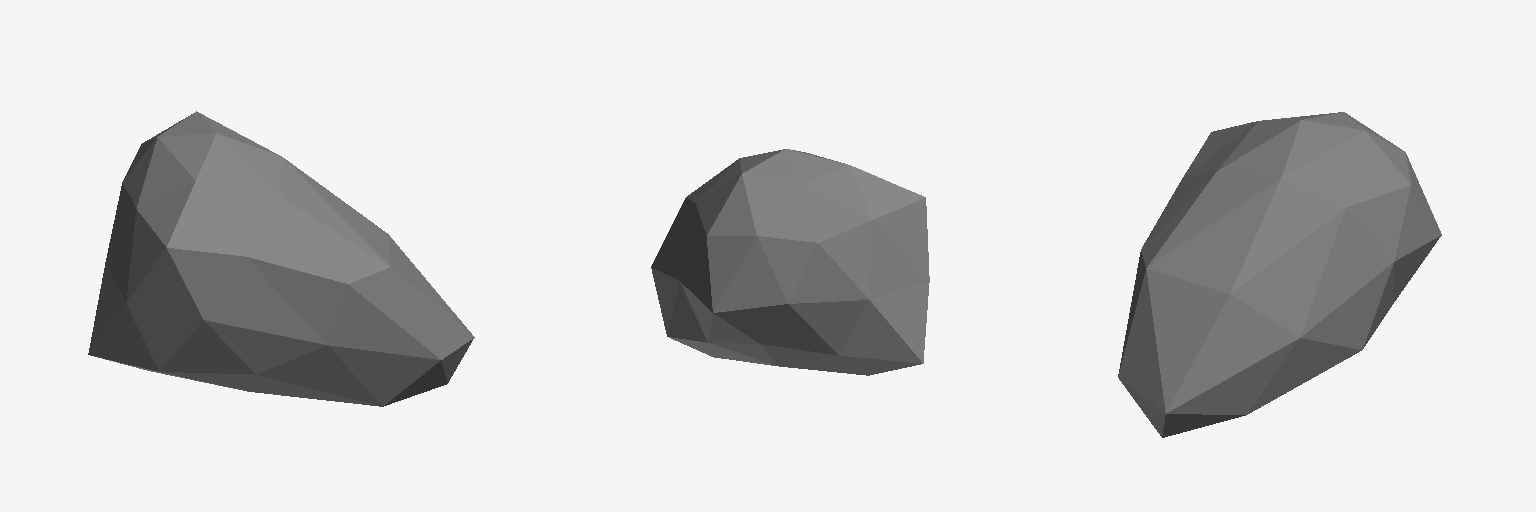
Rendered from stone.obj.
3 views of the same model, side by side, from view 1: azimuth 30°, elevation 25°; view 2: azimuth 150°, elevation 25°; view 3: azimuth 270°, elevation 25° (orthographic).
Parts seen in each view (by area): view 1: r6_Icosphere.003; view 2: r6_Icosphere.003; view 3: r6_Icosphere.003.
Boxes of the visible parts, x1=… form: r6_Icosphere.003: x1=88, y1=111, x2=474, y2=406; r6_Icosphere.003: x1=651, y1=149, x2=929, y2=375; r6_Icosphere.003: x1=1118, y1=112, x2=1441, y2=437.
Size of the model in its own units: 3.59 by 2.59 by 3.12.